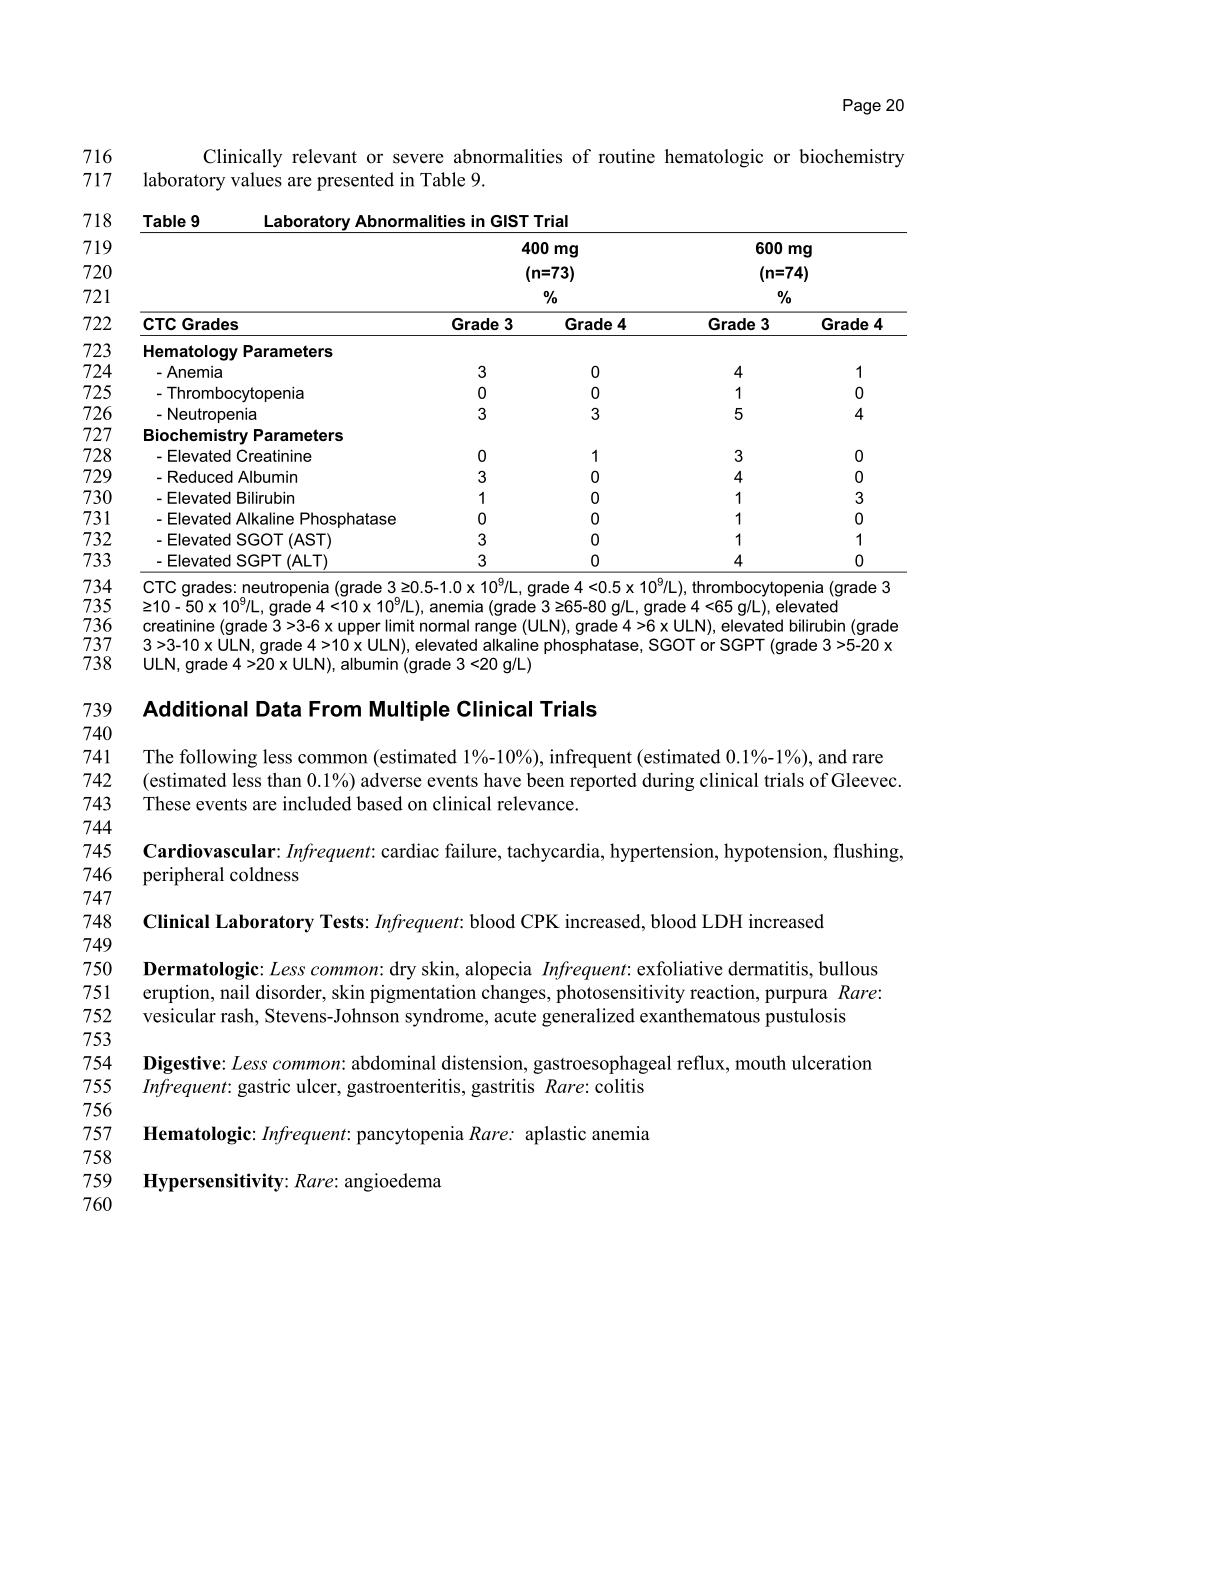partial_lined_merged_cells: (138, 230, 909, 573)
